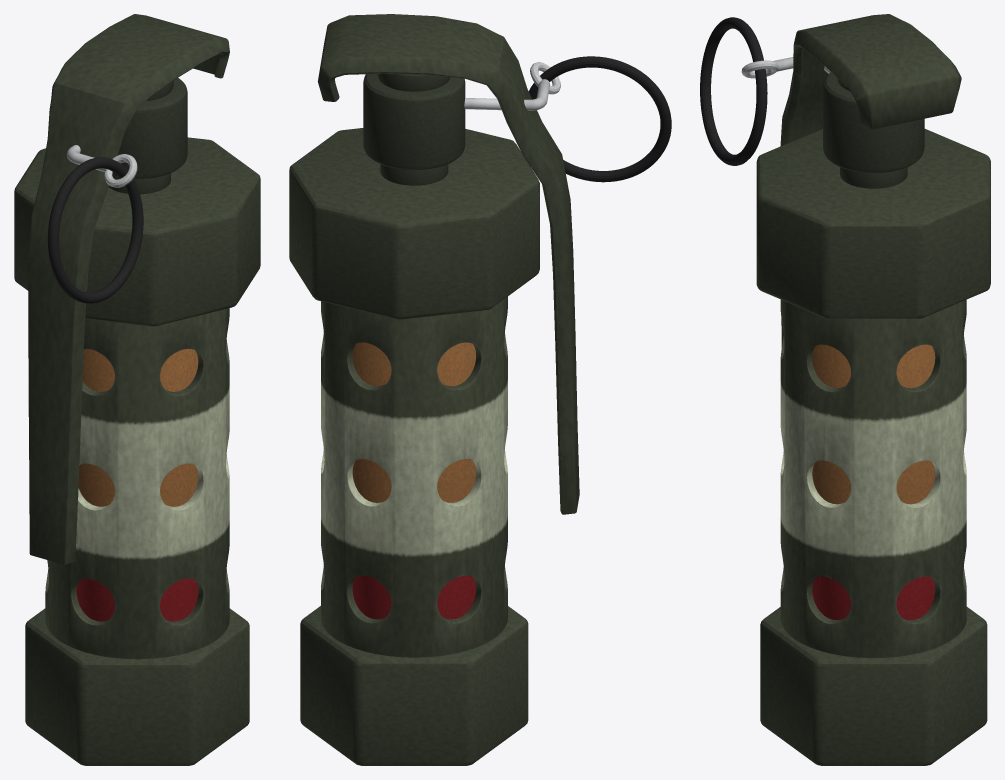
Rendered from Flashbang.fbx.
3 renders of one model, left to right at view 1: azimuth 30°, elevation 25°; view 2: azimuth 150°, elevation 25°; view 3: azimuth 270°, elevation 25°, orthographic.
Parts seen in each view (by area): view 1: Flashbang.001; view 2: Flashbang.001; view 3: Flashbang.001.
Boxes of the visible parts, x1=… form: Flashbang.001: x1=14, y1=14, x2=260, y2=765; Flashbang.001: x1=289, y1=14, x2=671, y2=765; Flashbang.001: x1=700, y1=14, x2=990, y2=765.
Size of the model in its own units: 0.0561 by 0.1344 by 0.0516.
